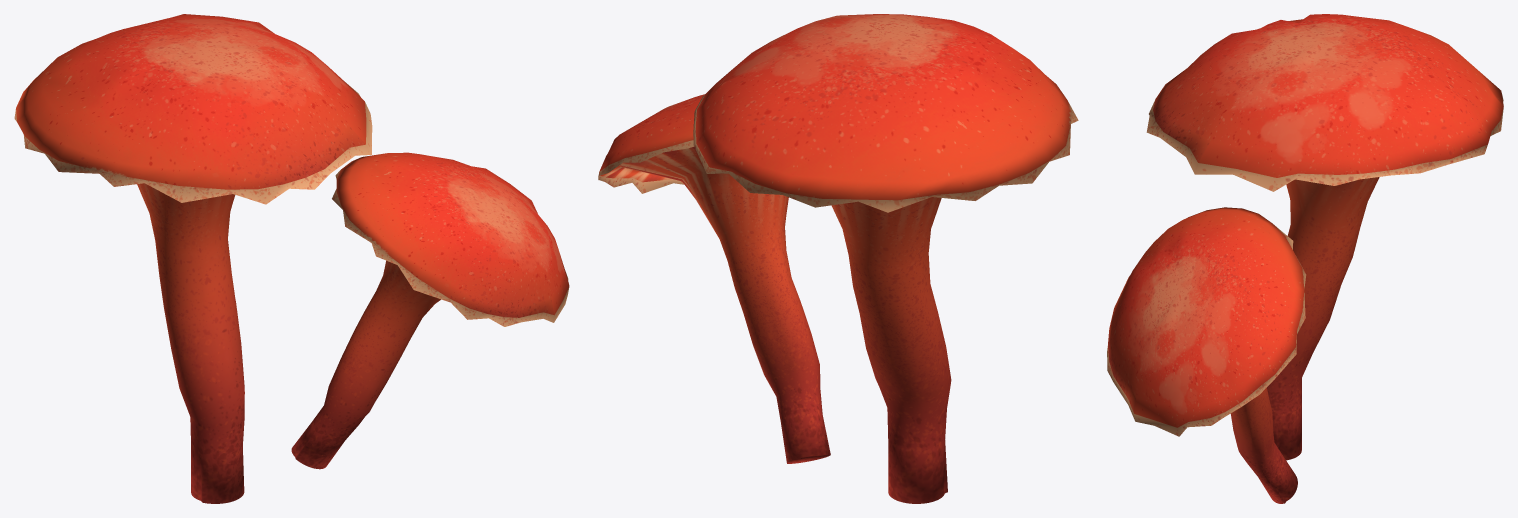
The model's file is Mushroom3.fbx.
3 views of the same model, side by side, from view 1: azimuth 30°, elevation 25°; view 2: azimuth 150°, elevation 25°; view 3: azimuth 270°, elevation 25° (orthographic). The views are drawn at different scales.
Parts seen in each view (by area): view 1: Cylinder, Cylinder.001; view 2: Cylinder, Cylinder.001; view 3: Cylinder, Cylinder.001.
Part boxes in pixels (x1,y1,x2,y2): Cylinder: (14,14,372,503); Cylinder.001: (291,152,569,469); Cylinder: (693,14,1078,503); Cylinder.001: (598,94,830,463); Cylinder: (1146,14,1503,460); Cylinder.001: (1107,207,1306,503).
Size of the model in its own units: 115 by 102 by 89.12.
2 materials, 2 textured.
